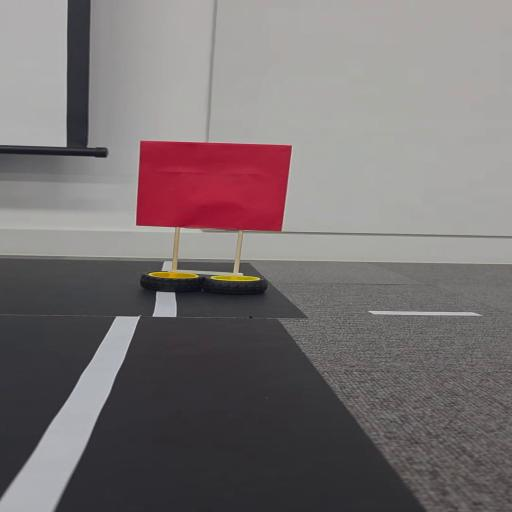Sign_A: (123, 132, 298, 296)
